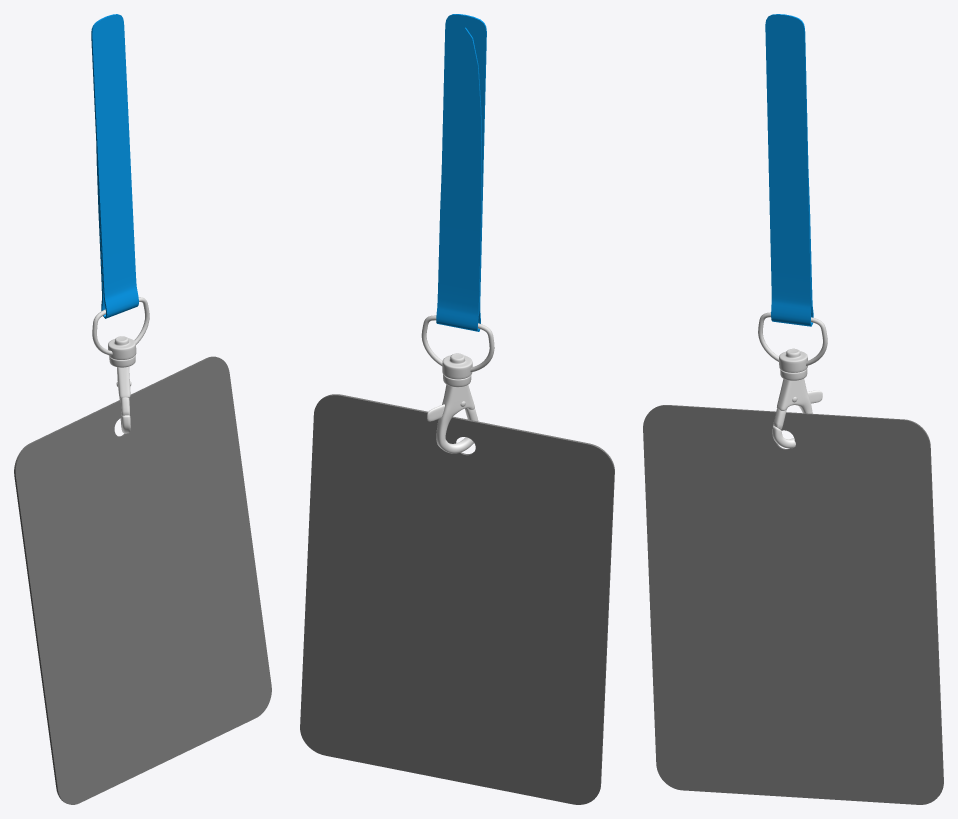
The model's file is idcardmodel.glb.
3 renders of one model, left to right at view 1: azimuth 30°, elevation 25°; view 2: azimuth 150°, elevation 25°; view 3: azimuth 330°, elevation 25°, orthographic. The views are drawn at different scales.
Visible parts, largest first — view 1: Plane.002, Plane, Cube, Circle, BezierCircle; view 2: Plane.002, Plane, Cube, BezierCircle, Circle; view 3: Plane.002, Plane, Cube, BezierCircle, Circle.
Part boxes in pixels (bbox=[...]): Plane.002: bbox=[14, 356, 271, 804]; Plane: bbox=[91, 14, 138, 318]; Cube: bbox=[117, 366, 130, 433]; Circle: bbox=[108, 336, 136, 359]; BezierCircle: bbox=[92, 297, 149, 355]; Plane.002: bbox=[300, 394, 614, 804]; Plane: bbox=[436, 14, 486, 331]; Cube: bbox=[427, 384, 478, 453]; BezierCircle: bbox=[421, 315, 494, 372]; Circle: bbox=[442, 353, 472, 379]; Plane.002: bbox=[643, 405, 943, 804]; Plane: bbox=[765, 14, 813, 326]; Cube: bbox=[772, 378, 822, 448]; BezierCircle: bbox=[758, 312, 827, 365]; Circle: bbox=[779, 348, 807, 372].
Size of the model in its own units: 1.82 by 4.71 by 0.5623.
